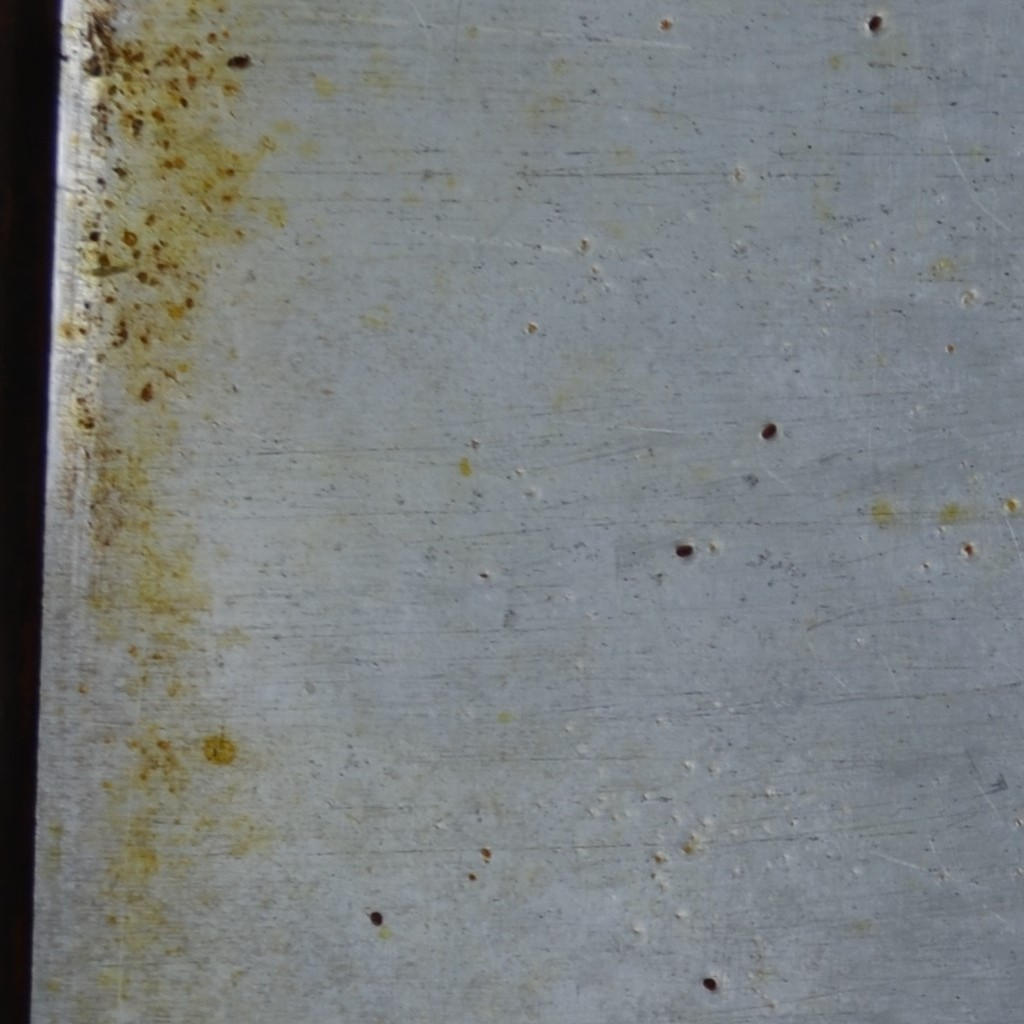varroa: (866, 9, 885, 33), (759, 420, 778, 444), (367, 906, 385, 930), (700, 972, 720, 992), (674, 540, 695, 559)
